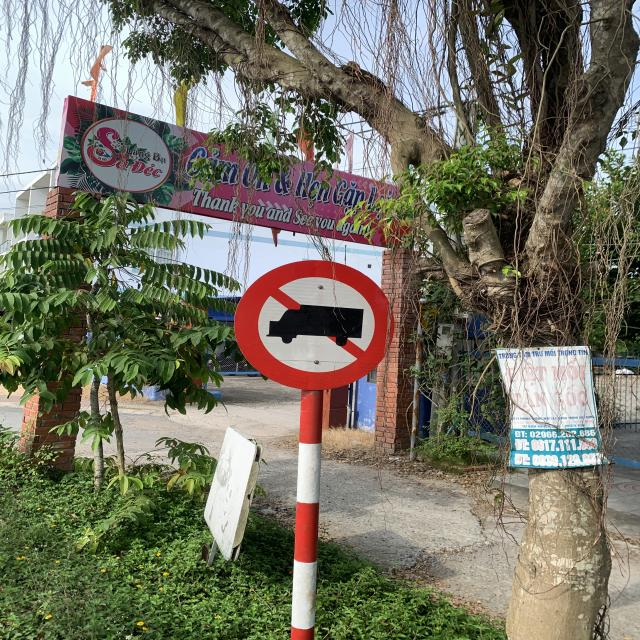Cam_Xe_Tai: (234, 260, 392, 392)
